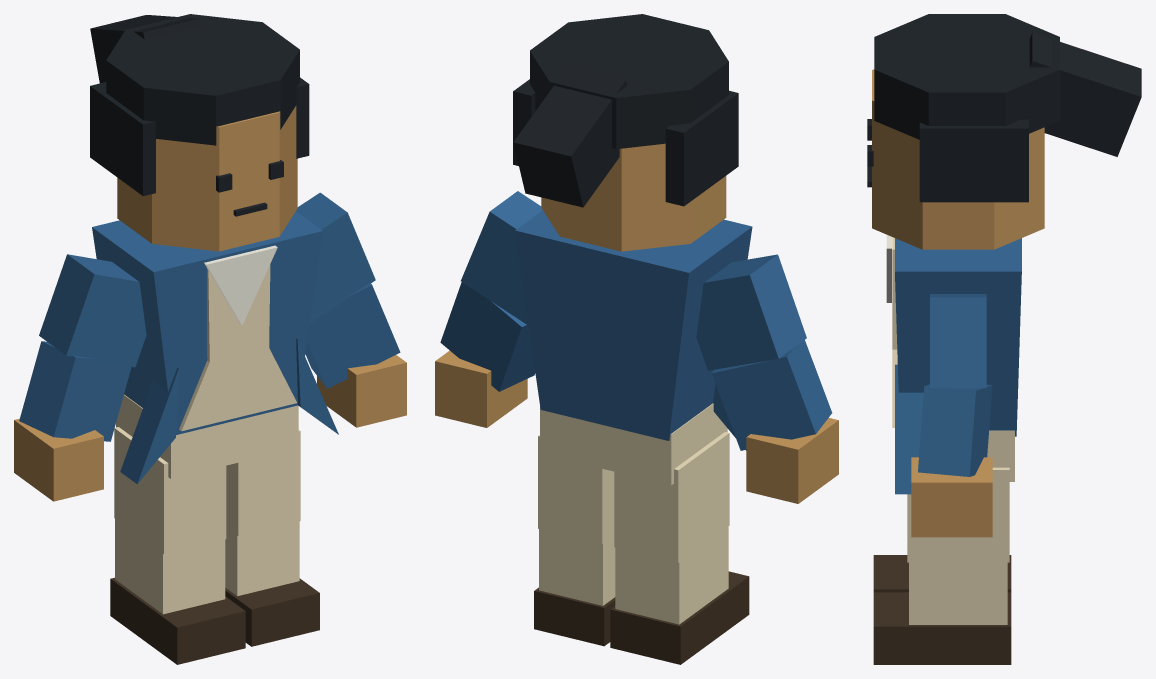
The model's file is Lafayette.glb.
3 renders of one model, left to right at view 1: azimuth 30°, elevation 25°; view 2: azimuth 150°, elevation 25°; view 3: azimuth 270°, elevation 25°, orthographic. The views are drawn at different scales.
Visible parts, largest first — view 1: Body, Body_M_CastV02_cream_f1e3bf, Body_M_CastV02_black_1d2228, Body_M_CastV02_skin_c8995b, Body_M_CastV02_white_f9f7ea; view 2: Body, Body_M_CastV02_cream_f1e3bf, Body_M_CastV02_black_1d2228, Body_M_CastV02_skin_c8995b; view 3: Body_M_CastV02_black_1d2228, Body, Body_M_CastV02_skin_c8995b, Body_M_CastV02_cream_f1e3bf.
Part boxes in pixels (x1,y1,x2,y2): Body: [19, 192, 400, 664]; Body_M_CastV02_cream_f1e3bf: [114, 264, 300, 614]; Body_M_CastV02_black_1d2228: [90, 14, 309, 196]; Body_M_CastV02_skin_c8995b: [14, 105, 406, 501]; Body_M_CastV02_white_f9f7ea: [204, 245, 277, 325]; Body: [440, 191, 832, 664]; Body_M_CastV02_cream_f1e3bf: [538, 403, 729, 624]; Body_M_CastV02_black_1d2228: [513, 14, 738, 207]; Body_M_CastV02_skin_c8995b: [435, 143, 838, 503]; Body_M_CastV02_black_1d2228: [867, 14, 1141, 202]; Body: [873, 238, 1021, 664]; Body_M_CastV02_skin_c8995b: [872, 69, 1044, 537]; Body_M_CastV02_cream_f1e3bf: [892, 237, 1014, 624].
Bounding box in the file's own units: 1.26 × 1.86 × 0.7928.
